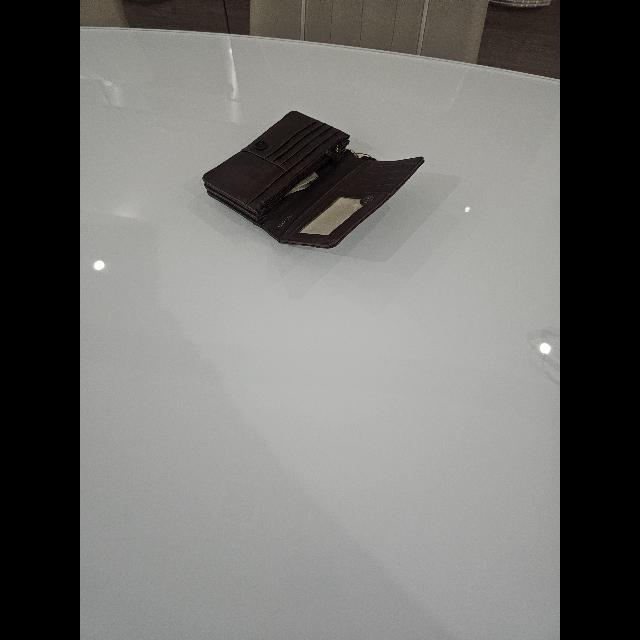Wallet: (202, 112, 424, 248)
